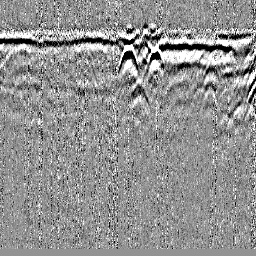cavity: (116, 43, 139, 75)
